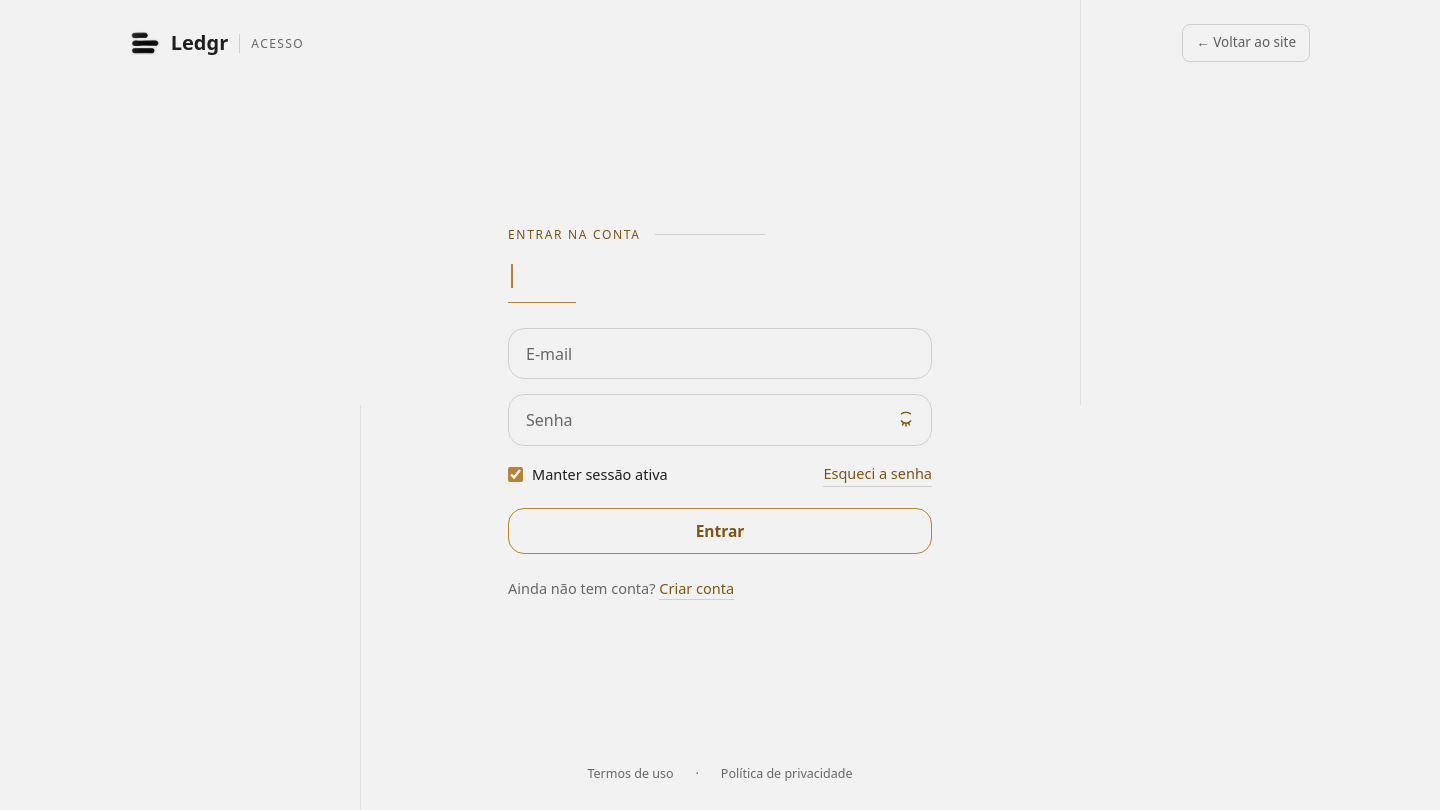
Test: LoginPage › error messages › points out both empty fields next to each one and does not try to sign in
The image size is (1440, 810).
Click the button "Entrar" at [720, 531], box [508,508,932,554]
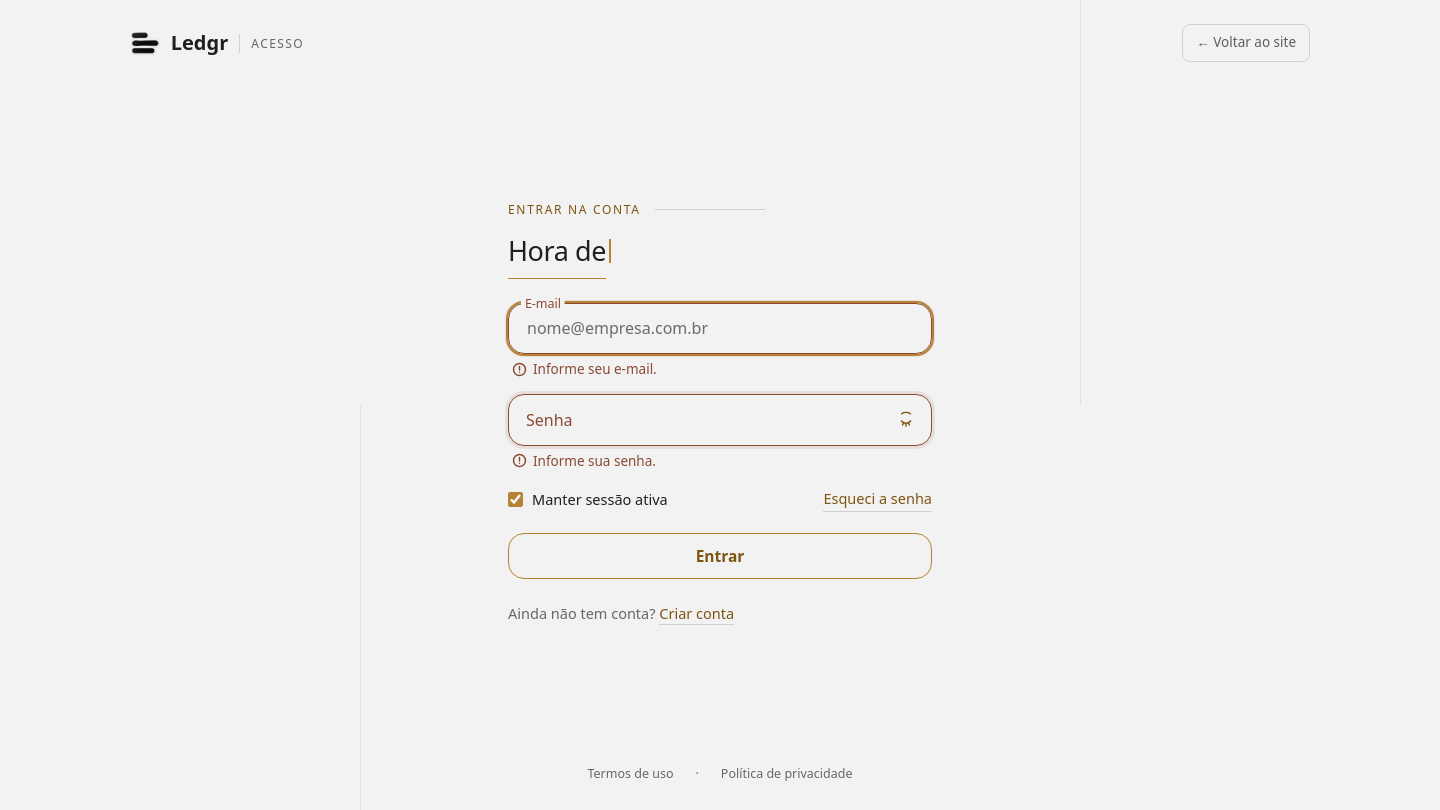
Check: the number of messages is 2, box [512,360,657,378]; [512,452,656,470]
